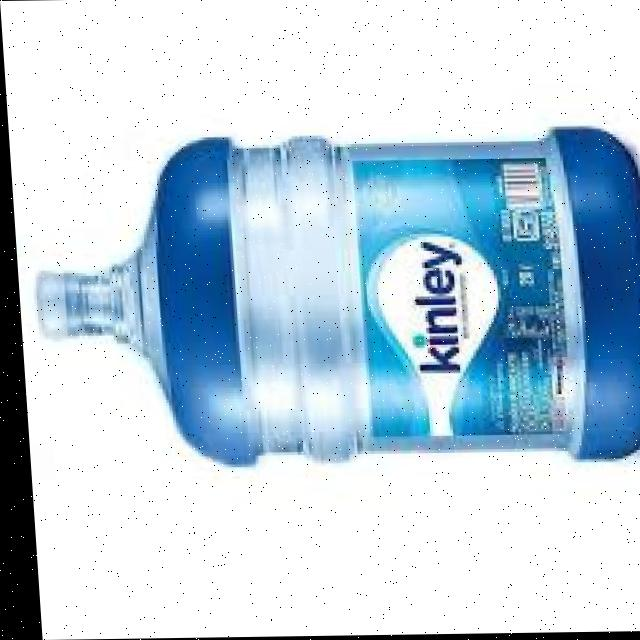bottle: (19, 76, 640, 528)
